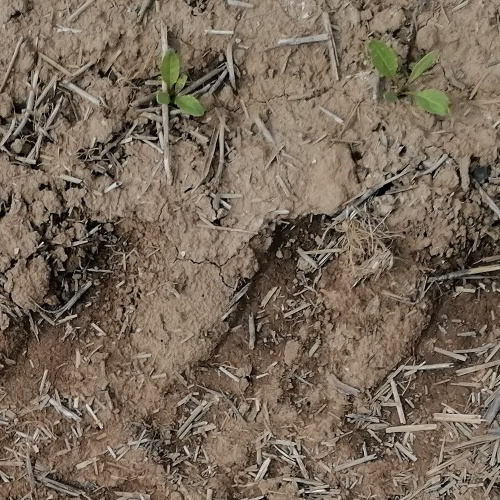beet: (364, 33, 455, 119), (145, 44, 215, 122)
